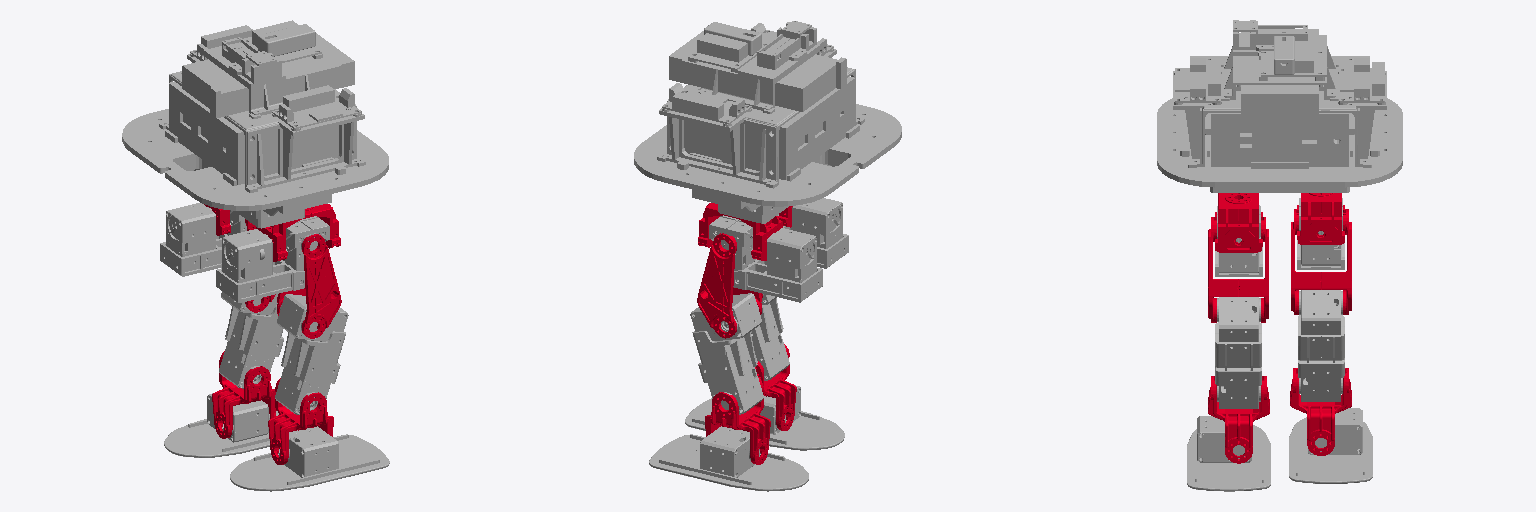
The robot description file, URDF, robot "exhx5_w_b_16":
<?xml version="1.0" encoding="utf-8"?>
<!-- This URDF was automatically created by SolidWorks to URDF Exporter! Originally created by [author] ([email redacted]) 
     Commit Version: 1.5.1-0-g916b5db  Build Version: 1.5.7152.31018
     For more information, please see http://wiki.ros.org/sw_urdf_exporter -->
<robot
  name="exhx5_w_b_16">
  <link
    name="body_link">
    <inertial>
      <origin
        xyz="0.00043545 0.00025536 0.10071"
        rpy="0 0 0" />
      <mass
        value="1.8238" />
      <inertia
        ixx="0.0025905"
        ixy="-5.6852E-06"
        ixz="-1.3106E-05"
        iyy="0.0024595"
        iyz="-1.261E-06"
        izz="0.0046407" />
    </inertial>
    <visual>
      <origin
        xyz="0 0 0"
        rpy="0 0 0" />
      <geometry>
        <mesh
          filename="../meshes/body_link.STL" />
      </geometry>
      <material
        name="body">
        <color
          rgba="0.7529 0.7529 0.7529 1" />
      </material>
    </visual>
    <collision>
      <origin
        xyz="0 0 0"
        rpy="0 0 0" />
      <geometry>
        <mesh
          filename="../meshes/body_link.STL" />
      </geometry>
    </collision>
  </link>

  <link
    name="imu_link">
    <inertial>
      <origin
        xyz="-0.008387 1.336E-17 -0.0069463"
        rpy="0 0 0" />
      <mass
        value="0.0062931" />
      <inertia
        ixx="3.2242E-07"
        ixy="3.3527E-22"
        ixz="-6.9193E-08"
        iyy="9.2229E-07"
        iyz="-8.0392E-22"
        izz="1.1018E-06" />
    </inertial>
    <visual>
      <origin
        xyz="0 0 0"
        rpy="0 0 0" />
      <geometry>
        <mesh
          filename="../meshes/imu_link.STL" />
      </geometry>
      <material
        name="imu_link">
        <color
          rgba="0.79216 0.81961 0.93333 1" />
      </material>
    </visual>
    <collision>
      <origin
        xyz="0 0 0"
        rpy="0 0 0" />
      <geometry>
        <mesh
          filename="../meshes/imu_link.STL" />
      </geometry>
    </collision>
  </link>
  <joint
    name="imu"
    type="fixed">
    <origin
      xyz="0 0 0.0492"
      rpy="0 0 0" />
    <parent
      link="body_link" />
    <child
      link="imu_link" />
    <axis
      xyz="0 0 0" />
    <limit
      lower="-3.14"
      upper="3.14"
      effort="4"
      velocity="4" />
  </joint>
  <link
    name="l_hip_g_link">
    <inertial>
      <origin
        xyz="-0.0043797 -8.6604E-08 0.011813"
        rpy="0 0 0" />
      <mass
        value="0.061008" />
      <inertia
        ixx="1.167E-05"
        ixy="7.1767E-11"
        ixz="9.1442E-09"
        iyy="2.2342E-05"
        iyz="2.5177E-11"
        izz="2.4892E-05" />
    </inertial>
    <visual>
      <origin
        xyz="0 0 0"
        rpy="0 0 0" />
      <geometry>
        <mesh
          filename="../meshes/l_hip_g_link.STL" />
      </geometry>
      <material
        name="l_hip_g_link">
        <color
          rgba="0.9451 0 0.18431 1" />
      </material>
    </visual>
    <collision>
      <origin
        xyz="0 0 0"
        rpy="0 0 0" />
      <geometry>
        <mesh
          filename="../meshes/l_hip_g_link.STL" />
      </geometry>
    </collision>
  </link>
  <joint
    name="l_hip_g"
    type="fixed">
    <origin
      xyz="0.005 0.035 0"
      rpy="0 0 0" />
    <parent
      link="body_link" />
    <child
      link="l_hip_g_link" />
    <axis
      xyz="0 0 0" />
  </joint>
  <link
    name="l_hip_roll_link">
    <inertial>
      <origin
        xyz="0.013831 0.00033457 0.025453"
        rpy="0 0 0" />
      <mass
        value="0.2969" />
      <inertia
        ixx="7.8136E-05"
        ixy="7.265E-07"
        ixz="-6.9809E-08"
        iyy="9.2183E-05"
        iyz="-5.6881E-11"
        izz="7.1034E-05" />
    </inertial>
    <visual>
      <origin
        xyz="0 0 0"
        rpy="0 0 0" />
      <geometry>
        <mesh
          filename="../meshes/l_hip_roll_link.STL" />
      </geometry>
      <material
        name="l_hip_roll_link">
        <color
          rgba="0.7529 0.7529 0.7529 1" />
      </material>
    </visual>
    <collision>
      <origin
        xyz="0 0 0"
        rpy="0 0 0" />
      <geometry>
        <mesh
          filename="../meshes/l_hip_roll_link.STL" />
      </geometry>
    </collision>
  </link>
  <joint
    name="l_hip_roll"
    type="revolute">
    <origin
      xyz="0 0 0"
      rpy="3.1416 1.5708 0" />
    <parent
      link="l_hip_g_link" />
    <child
      link="l_hip_roll_link" />
    <axis
      xyz="0 0 1" />
    <limit
      lower="-3.14"
      upper="3.14"
      effort="4"
      velocity="4" />
  </joint>
  <link
    name="l_hip_pitch_link">
    <inertial>
      <origin
        xyz="0.041225 -0.007321 -5.0713E-08"
        rpy="0 0 0" />
      <mass
        value="0.051592" />
      <inertia
        ixx="2.7959E-05"
        ixy="2.0752E-06"
        ixz="-8.0934E-11"
        iyy="4.8156E-05"
        iyz="3.6317E-11"
        izz="2.9604E-05" />
    </inertial>
    <visual>
      <origin
        xyz="0 0 0"
        rpy="0 0 0" />
      <geometry>
        <mesh
          filename="../meshes/l_hip_pitch_link.STL" />
      </geometry>
      <material
        name="l_hip_pitch_link">
        <color
          rgba="0.9451 0 0.18431 1" />
      </material>
    </visual>
    <collision>
      <origin
        xyz="0 0 0"
        rpy="0 0 0" />
      <geometry>
        <mesh
          filename="../meshes/l_hip_pitch_link.STL" />
      </geometry>
    </collision>
  </link>
  <joint
    name="l_hip_pitch"
    type="revolute">
    <origin
      xyz="0 0 0"
      rpy="1.5708 0 0" />
    <parent
      link="l_hip_roll_link" />
    <child
      link="l_hip_pitch_link" />
    <axis
      xyz="0 0 1" />
    <limit
      lower="-3.14"
      upper="3.14"
      effort="4"
      velocity="4" />
  </joint>
  <link
    name="l_knee_link">
    <inertial>
      <origin
        xyz="0.033756 -0.0084189 -6.6115E-09"
        rpy="0 0 0" />
      <mass
        value="0.28878" />
      <inertia
        ixx="6.6724E-05"
        ixy="7.5004E-07"
        ixz="-8.4578E-07"
        iyy="6.5699E-05"
        iyz="4.1085E-07"
        izz="7.0381E-05" />
    </inertial>
    <visual>
      <origin
        xyz="0 0 0"
        rpy="0 0 0" />
      <geometry>
        <mesh
          filename="../meshes/l_knee_link.STL" />
      </geometry>
      <material
        name="l_knee_link">
        <color
          rgba="0.7529 0.7529 0.7529 1" />
      </material>
    </visual>
    <collision>
      <origin
        xyz="0 0 0"
        rpy="0 0 0" />
      <geometry>
        <mesh
          filename="../meshes/l_knee_link.STL" />
      </geometry>
    </collision>
  </link>
  <joint
    name="l_knee"
    type="revolute">
    <origin
      xyz="0.075954 0 0"
      rpy="0 0 0" />
    <parent
      link="l_hip_pitch_link" />
    <child
      link="l_knee_link" />
    <axis
      xyz="0 0 1" />
    <limit
      lower="-3.14"
      upper="3.14"
      effort="4"
      velocity="4" />
  </joint>
  <link
    name="l_ank_pitch_link">
    <inertial>
      <origin
        xyz="0.022786 -7.3909E-09 -7.1981E-06"
        rpy="0 0 0" />
      <mass
        value="0.044772" />
      <inertia
        ixx="1.777E-05"
        ixy="8.555E-14"
        ixz="-3.3713E-09"
        iyy="1.7119E-05"
        iyz="1.7593E-11"
        izz="1.8661E-05" />
    </inertial>
    <visual>
      <origin
        xyz="0 0 0"
        rpy="0 0 0" />
      <geometry>
        <mesh
          filename="../meshes/l_ank_pitch_link.STL" />
      </geometry>
      <material
        name="l_ank_pitch_link">
        <color
          rgba="0.9451 0 0.18431 1" />
      </material>
    </visual>
    <collision>
      <origin
        xyz="0 0 0"
        rpy="0 0 0" />
      <geometry>
        <mesh
          filename="../meshes/l_ank_pitch_link.STL" />
      </geometry>
    </collision>
  </link>
  <joint
    name="l_ank_pitch"
    type="revolute">
    <origin
      xyz="0.074602 0 0"
      rpy="3.1416 0 0" />
    <parent
      link="l_knee_link" />
    <child
      link="l_ank_pitch_link" />
    <axis
      xyz="0 0 1" />
    <limit
      lower="-3.14"
      upper="3.14"
      effort="4"
      velocity="4" />
  </joint>
  <link
    name="l_ank_roll_link">
    <inertial>
      <origin
        xyz="0.0047069 0.010728 0.0015299"
        rpy="0 0 0" />
      <mass
        value="0.16774" />
      <inertia
        ixx="0.00012039"
        ixy="-3.7428E-09"
        ixz="4.4069E-08"
        iyy="8.7735E-05"
        iyz="7.0469E-07"
        izz="4.7866E-05" />
    </inertial>
    <visual>
      <origin
        xyz="0 0 0"
        rpy="0 0 0" />
      <geometry>
        <mesh
          filename="../meshes/l_ank_roll_link.STL" />
      </geometry>
      <material
        name="l_ank_roll_link">
        <color
          rgba="0.7529 0.7529 0.7529 1" />
      </material>
    </visual>
    <collision>
      <origin
        xyz="0 0 0"
        rpy="0 0 0" />
      <geometry>
        <mesh
          filename="../meshes/l_ank_roll_link.STL" />
      </geometry>
    </collision>
  </link>
  <joint
    name="l_ank_roll"
    type="revolute">
    <origin
      xyz="0.0465 0 0"
      rpy="-1.5708 0 0" />
    <parent
      link="l_ank_pitch_link" />
    <child
      link="l_ank_roll_link" />
    <axis
      xyz="0 0 1" />
    <limit
      lower="-3.14"
      upper="3.14"
      effort="4"
      velocity="4" />
  </joint>
  <link
    name="r_hip_g_link">
    <inertial>
      <origin
        xyz="-0.0043797 -8.6604E-08 0.011813"
        rpy="0 0 0" />
      <mass
        value="0.061008" />
      <inertia
        ixx="1.167E-05"
        ixy="7.1767E-11"
        ixz="9.1442E-09"
        iyy="2.2342E-05"
        iyz="2.5177E-11"
        izz="2.4892E-05" />
    </inertial>
    <visual>
      <origin
        xyz="0 0 0"
        rpy="0 0 0" />
      <geometry>
        <mesh
          filename="../meshes/r_hip_g_link.STL" />
      </geometry>
      <material
        name="r_hip_g_link">
        <color
          rgba="0.9451 0 0.18431 1" />
      </material>
    </visual>
    <collision>
      <origin
        xyz="0 0 0"
        rpy="0 0 0" />
      <geometry>
        <mesh
          filename="../meshes/r_hip_g_link.STL" />
      </geometry>
    </collision>
  </link>
  <joint
    name="r_hip_g"
    type="fixed">
    <origin
      xyz="0.02 -0.035 0"
      rpy="0 0 0" />
    <parent
      link="body_link" />
    <child
      link="r_hip_g_link" />
    <axis
      xyz="0 0 0" />
  </joint>
  <link
    name="r_hip_roll_link">
    <inertial>
      <origin
        xyz="0.013831 0.00033457 0.025453"
        rpy="0 0 0" />
      <mass
        value="0.2969" />
      <inertia
        ixx="7.8136E-05"
        ixy="7.265E-07"
        ixz="-6.9809E-08"
        iyy="9.2183E-05"
        iyz="-5.6881E-11"
        izz="7.1034E-05" />
    </inertial>
    <visual>
      <origin
        xyz="0 0 0"
        rpy="0 0 0" />
      <geometry>
        <mesh
          filename="../meshes/r_hip_roll_link.STL" />
      </geometry>
      <material
        name="r_hip_roll_link">
        <color
          rgba="0.7529 0.7529 0.7529 1" />
      </material>
    </visual>
    <collision>
      <origin
        xyz="0 0 0"
        rpy="0 0 0" />
      <geometry>
        <mesh
          filename="../meshes/r_hip_roll_link.STL" />
      </geometry>
    </collision>
  </link>
  <joint
    name="r_hip_roll"
    type="revolute">
    <origin
      xyz="0 0 0"
      rpy="3.1416 1.5708 0" />
    <parent
      link="r_hip_g_link" />
    <child
      link="r_hip_roll_link" />
    <axis
      xyz="0 0 1" />
    <limit
      lower="-3.14"
      upper="3.14"
      effort="4"
      velocity="4" />
  </joint>
  <link
    name="r_hip_pitch_link">
    <inertial>
      <origin
        xyz="0.041225 0.007321 5.0713E-08"
        rpy="0 0 0" />
      <mass
        value="0.051592" />
      <inertia
        ixx="2.7959E-05"
        ixy="-2.0752E-06"
        ixz="8.0934E-11"
        iyy="4.8156E-05"
        iyz="3.6317E-11"
        izz="2.9604E-05" />
    </inertial>
    <visual>
      <origin
        xyz="0 0 0"
        rpy="0 0 0" />
      <geometry>
        <mesh
          filename="../meshes/r_hip_pitch_link.STL" />
      </geometry>
      <material
        name="r_hip_pitch_link">
        <color
          rgba="0.9451 0 0.18431 1" />
      </material>
    </visual>
    <collision>
      <origin
        xyz="0 0 0"
        rpy="0 0 0" />
      <geometry>
        <mesh
          filename="../meshes/r_hip_pitch_link.STL" />
      </geometry>
    </collision>
  </link>
  <joint
    name="r_hip_pitch"
    type="revolute">
    <origin
      xyz="0 0 0"
      rpy="-1.5708 0 0" />
    <parent
      link="r_hip_roll_link" />
    <child
      link="r_hip_pitch_link" />
    <axis
      xyz="0 0 1" />
    <limit
      lower="-3.14"
      upper="3.14"
      effort="4"
      velocity="4" />
  </joint>
  <link
    name="r_knee_link">
    <inertial>
      <origin
        xyz="0.033757 0.0084176 6.6115E-09"
        rpy="0 0 0" />
      <mass
        value="0.28878" />
      <inertia
        ixx="6.6724E-05"
        ixy="-7.5008E-07"
        ixz="8.458E-07"
        iyy="6.5699E-05"
        iyz="4.1081E-07"
        izz="7.0381E-05" />
    </inertial>
    <visual>
      <origin
        xyz="0 0 0"
        rpy="0 0 0" />
      <geometry>
        <mesh
          filename="../meshes/r_knee_link.STL" />
      </geometry>
      <material
        name="r_knee_link">
        <color
          rgba="0.7529 0.7529 0.7529 1" />
      </material>
    </visual>
    <collision>
      <origin
        xyz="0 0 0"
        rpy="0 0 0" />
      <geometry>
        <mesh
          filename="../meshes/r_knee_link.STL" />
      </geometry>
    </collision>
  </link>
  <joint
    name="r_knee"
    type="revolute">
    <origin
      xyz="0.075954 0 0"
      rpy="0 0 0" />
    <parent
      link="r_hip_pitch_link" />
    <child
      link="r_knee_link" />
    <axis
      xyz="0 0 1" />
    <limit
      lower="-3.14"
      upper="3.14"
      effort="4"
      velocity="4" />
  </joint>
  <link
    name="r_ank_pitch_link">
    <inertial>
      <origin
        xyz="0.025786 -7.3887E-09 -7.1981E-06"
        rpy="0 0 0" />
      <mass
        value="0.044772" />
      <inertia
        ixx="1.777E-05"
        ixy="8.5434E-14"
        ixz="-3.3713E-09"
        iyy="1.7119E-05"
        iyz="1.7592E-11"
        izz="1.8661E-05" />
    </inertial>
    <visual>
      <origin
        xyz="0 0 0"
        rpy="0 0 0" />
      <geometry>
        <mesh
          filename="../meshes/r_ank_pitch_link.STL" />
      </geometry>
      <material
        name="r_ank_pitch_link">
        <color
          rgba="0.9451 0 0.18431 1" />
      </material>
    </visual>
    <collision>
      <origin
        xyz="0 0 0"
        rpy="0 0 0" />
      <geometry>
        <mesh
          filename="../meshes/r_ank_pitch_link.STL" />
      </geometry>
    </collision>
  </link>
  <joint
    name="r_ank_pitch"
    type="revolute">
    <origin
      xyz="0.071602 0 0"
      rpy="3.1416 0 0" />
    <parent
      link="r_knee_link" />
    <child
      link="r_ank_pitch_link" />
    <axis
      xyz="0 0 1" />
    <limit
      lower="-3.14"
      upper="3.14"
      effort="4"
      velocity="4" />
  </joint>
  <link
    name="r_ank_roll_link">
    <inertial>
      <origin
        xyz="0.0077069 -0.010728 0.0015299"
        rpy="0 0 0" />
      <mass
        value="0.16774" />
      <inertia
        ixx="0.00012039"
        ixy="3.743E-09"
        ixz="4.407E-08"
        iyy="8.7735E-05"
        iyz="-7.0467E-07"
        izz="4.7866E-05" />
    </inertial>
    <visual>
      <origin
        xyz="0 0 0"
        rpy="0 0 0" />
      <geometry>
        <mesh
          filename="../meshes/r_ank_roll_link.STL" />
      </geometry>
      <material
        name="r_ank_roll_link">
        <color
          rgba="0.7529 0.7529 0.7529 1" />
      </material>
    </visual>
    <collision>
      <origin
        xyz="0 0 0"
        rpy="0 0 0" />
      <geometry>
        <mesh
          filename="../meshes/r_ank_roll_link.STL" />
      </geometry>
    </collision>
  </link>
  <joint
    name="r_ank_roll"
    type="revolute">
    <origin
      xyz="0.0465 0 0"
      rpy="1.5708 0 0" />
    <parent
      link="r_ank_pitch_link" />
    <child
      link="r_ank_roll_link" />
    <axis
      xyz="0 0 1" />
    <limit
      lower="-3.14"
      upper="3.14"
      effort="4"
      velocity="4" />
  </joint>
  <transmission name="r_hip_roll_tran">
    <type>transmission_interface/SimpleTransmission</type>
    <joint name="r_hip_roll">
      <hardwareInterface>hardware_interface/EffortJointInterface</hardwareInterface>
    </joint>
    <actuator name="r_hip_roll_motor">
      <hardwareInterface>hardware_interface/EffortJointInterface</hardwareInterface>
      <mechanicalReduction>1</mechanicalReduction>
    </actuator>
  </transmission>
  <transmission name="r_hip_pitch_tran">
    <type>transmission_interface/SimpleTransmission</type>
    <joint name="r_hip_pitch">
      <hardwareInterface>hardware_interface/EffortJointInterface</hardwareInterface>
    </joint>
    <actuator name="r_hip_pitch_motor">
      <hardwareInterface>hardware_interface/EffortJointInterface</hardwareInterface>
      <mechanicalReduction>1</mechanicalReduction>
    </actuator>
  </transmission>
  <transmission name="r_knee_tran">
    <type>transmission_interface/SimpleTransmission</type>
    <joint name="r_knee">
      <hardwareInterface>hardware_interface/EffortJointInterface</hardwareInterface>
    </joint>
    <actuator name="r_knee_motor">
      <hardwareInterface>hardware_interface/EffortJointInterface</hardwareInterface>
      <mechanicalReduction>1</mechanicalReduction>
    </actuator>
  </transmission>
  <transmission name="r_ank_pitch_tran">
    <type>transmission_interface/SimpleTransmission</type>
    <joint name="r_ank_pitch">
      <hardwareInterface>hardware_interface/EffortJointInterface</hardwareInterface>
    </joint>
    <actuator name="r_ank_pitch_motor">
      <hardwareInterface>hardware_interface/EffortJointInterface</hardwareInterface>
      <mechanicalReduction>1</mechanicalReduction>
    </actuator>
  </transmission>
  <transmission name="r_ank_roll_tran">
    <type>transmission_interface/SimpleTransmission</type>
    <joint name="r_ank_roll">
      <hardwareInterface>hardware_interface/EffortJointInterface</hardwareInterface>
    </joint>
    <actuator name="r_ank_roll_motor">
      <hardwareInterface>hardware_interface/EffortJointInterface</hardwareInterface>
      <mechanicalReduction>1</mechanicalReduction>
    </actuator>
  </transmission>
  <transmission name="l_hip_roll_tran">
    <type>transmission_interface/SimpleTransmission</type>
    <joint name="l_hip_roll">
      <hardwareInterface>hardware_interface/EffortJointInterface</hardwareInterface>
    </joint>
    <actuator name="l_hip_roll_motor">
      <hardwareInterface>hardware_interface/EffortJointInterface</hardwareInterface>
      <mechanicalReduction>1</mechanicalReduction>
    </actuator>
  </transmission>
  <transmission name="l_hip_pitch_tran">
    <type>transmission_interface/SimpleTransmission</type>
    <joint name="l_hip_pitch">
      <hardwareInterface>hardware_interface/EffortJointInterface</hardwareInterface>
    </joint>
    <actuator name="l_hip_pitch_motor">
      <hardwareInterface>hardware_interface/EffortJointInterface</hardwareInterface>
      <mechanicalReduction>1</mechanicalReduction>
    </actuator>
  </transmission>
  <transmission name="l_knee_tran">
    <type>transmission_interface/SimpleTransmission</type>
    <joint name="l_knee">
      <hardwareInterface>hardware_interface/EffortJointInterface</hardwareInterface>
    </joint>
    <actuator name="l_knee_motor">
      <hardwareInterface>hardware_interface/EffortJointInterface</hardwareInterface>
      <mechanicalReduction>1</mechanicalReduction>
    </actuator>
  </transmission>
  <transmission name="l_ank_pitch_tran">
    <type>transmission_interface/SimpleTransmission</type>
    <joint name="l_ank_pitch">
      <hardwareInterface>hardware_interface/EffortJointInterface</hardwareInterface>
    </joint>
    <actuator name="l_ank_pitch_motor">
      <hardwareInterface>hardware_interface/EffortJointInterface</hardwareInterface>
      <mechanicalReduction>1</mechanicalReduction>
    </actuator>
  </transmission>
  <transmission name="l_ank_roll_tran">
    <type>transmission_interface/SimpleTransmission</type>
    <joint name="l_ank_roll">
      <hardwareInterface>hardware_interface/EffortJointInterface</hardwareInterface>
    </joint>
    <actuator name="l_ank_roll_motor">
      <hardwareInterface>hardware_interface/EffortJointInterface</hardwareInterface>
      <mechanicalReduction>1</mechanicalReduction>
    </actuator>
  </transmission>
</robot>

--- Render facts (derived) ---
Views: 3 orthographic renders of the robot side by side, from view 1: azimuth 30°, elevation 25°; view 2: azimuth 150°, elevation 25°; view 3: azimuth 270°, elevation 25°.
Model exhx5_w_b_16 with 14 links and 13 joints (10 revolute, 3 fixed), rooted at body_link, posed every joint at zero.
Links seen in each view (by area): view 1: body_link, r_ank_roll_link, r_hip_roll_link, r_knee_link, l_hip_roll_link, l_knee_link, l_ank_roll_link, r_hip_pitch_link, l_ank_pitch_link, r_ank_pitch_link, r_hip_g_link; view 2: body_link, l_ank_roll_link, l_hip_roll_link, l_knee_link, l_hip_pitch_link, r_ank_roll_link, r_hip_roll_link, l_ank_pitch_link, r_knee_link, r_ank_pitch_link, l_hip_g_link; view 3: body_link, r_knee_link, l_knee_link, l_ank_roll_link, r_ank_roll_link, r_hip_g_link, l_hip_g_link, l_hip_pitch_link, r_hip_pitch_link, r_ank_pitch_link, l_ank_pitch_link, l_hip_roll_link (+1 smaller).
Link boxes in pixels (left/top/right/bottom): body_link: left=122, top=20, right=388, bottom=259; r_ank_roll_link: left=230, top=426, right=389, bottom=491; r_hip_roll_link: left=216, top=216, right=329, bottom=302; r_knee_link: left=275, top=294, right=348, bottom=414; l_hip_roll_link: left=160, top=203, right=246, bottom=276; l_knee_link: left=219, top=291, right=283, bottom=388; l_ank_roll_link: left=164, top=393, right=278, bottom=457; r_hip_pitch_link: left=277, top=234, right=341, bottom=338; l_ank_pitch_link: left=212, top=351, right=276, bottom=438; r_ank_pitch_link: left=268, top=378, right=333, bottom=464; r_hip_g_link: left=256, top=204, right=340, bottom=261; body_link: left=634, top=21, right=901, bottom=223; l_ank_roll_link: left=649, top=426, right=808, bottom=491; l_hip_roll_link: left=709, top=215, right=822, bottom=302; l_knee_link: left=690, top=293, right=763, bottom=414; l_hip_pitch_link: left=697, top=233, right=761, bottom=338; r_ank_roll_link: left=685, top=385, right=844, bottom=450; r_hip_roll_link: left=777, top=198, right=848, bottom=268; l_ank_pitch_link: left=705, top=377, right=770, bottom=464; r_knee_link: left=751, top=294, right=789, bottom=380; r_ank_pitch_link: left=755, top=344, right=796, bottom=430; l_hip_g_link: left=698, top=203, right=782, bottom=260; body_link: left=1157, top=20, right=1402, bottom=192; r_knee_link: left=1215, top=297, right=1261, bottom=408; l_knee_link: left=1298, top=290, right=1344, bottom=401; l_ank_roll_link: left=1289, top=408, right=1372, bottom=483; r_ank_roll_link: left=1187, top=416, right=1270, bottom=491; r_hip_g_link: left=1215, top=193, right=1262, bottom=252; l_hip_g_link: left=1297, top=193, right=1344, bottom=244; l_hip_pitch_link: left=1291, top=209, right=1351, bottom=314; r_hip_pitch_link: left=1208, top=217, right=1268, bottom=322; r_ank_pitch_link: left=1208, top=376, right=1269, bottom=463; l_ank_pitch_link: left=1290, top=368, right=1351, bottom=455; l_hip_roll_link: left=1297, top=198, right=1344, bottom=269.
Size in the robot's own frame: 0.1871 by 0.21 by 0.3893 metres.
Meshes: 14 distinct files referenced, 14 mesh visuals loaded (14 binary STL).